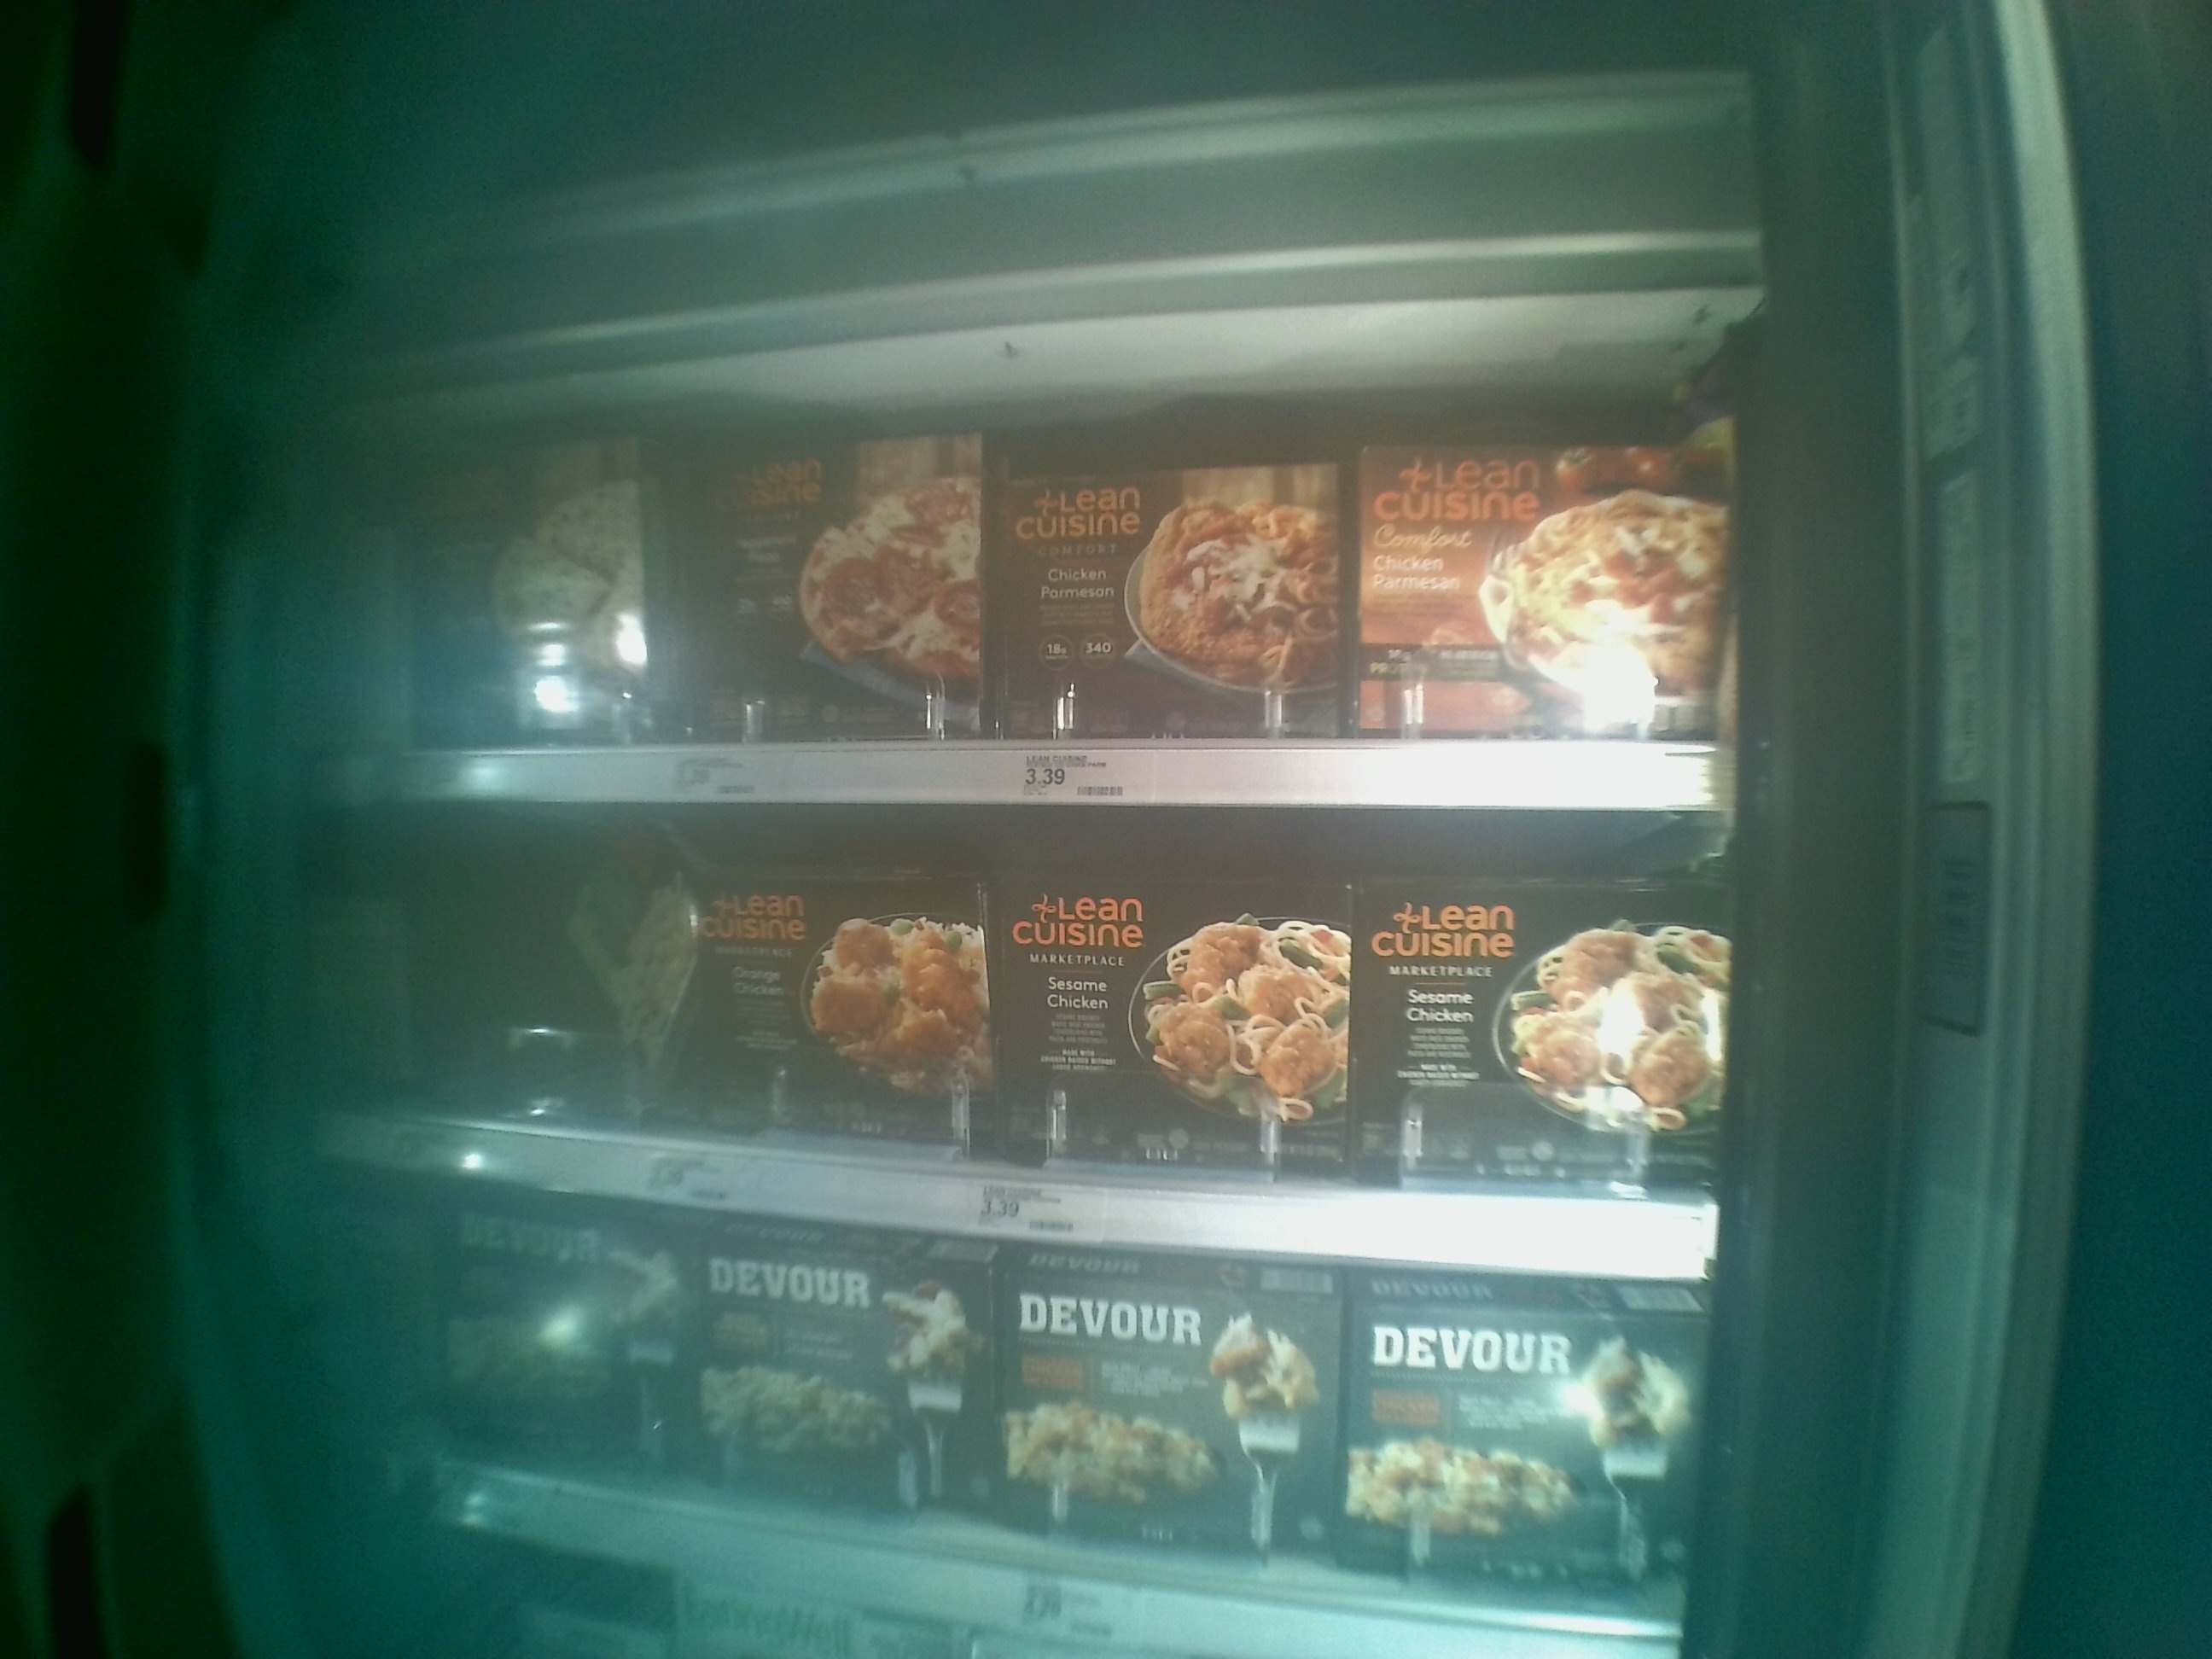shelf: (324, 803, 1721, 1281), (334, 376, 1724, 807)
